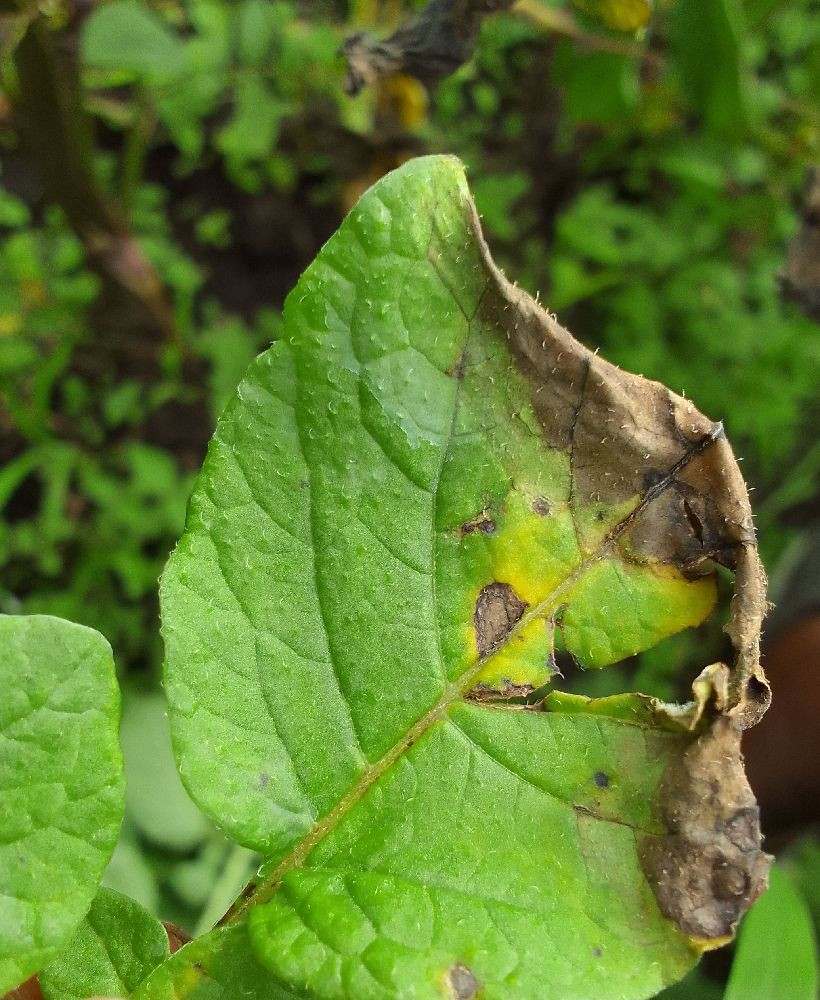late_blight: (691, 27, 820, 358), (44, 472, 107, 598), (463, 571, 541, 670)
